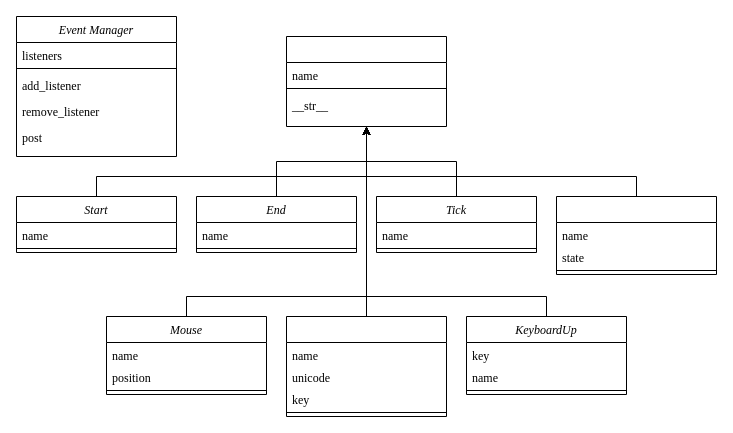
Image size: 733x433. Some labels were removed from this diagram. Here are the shapes that lost their labels. From the top down, the box of each, then its label:
(286, 36, 446, 126): Event
(556, 196, 716, 274): Change State
(286, 316, 446, 416): Keyboard
